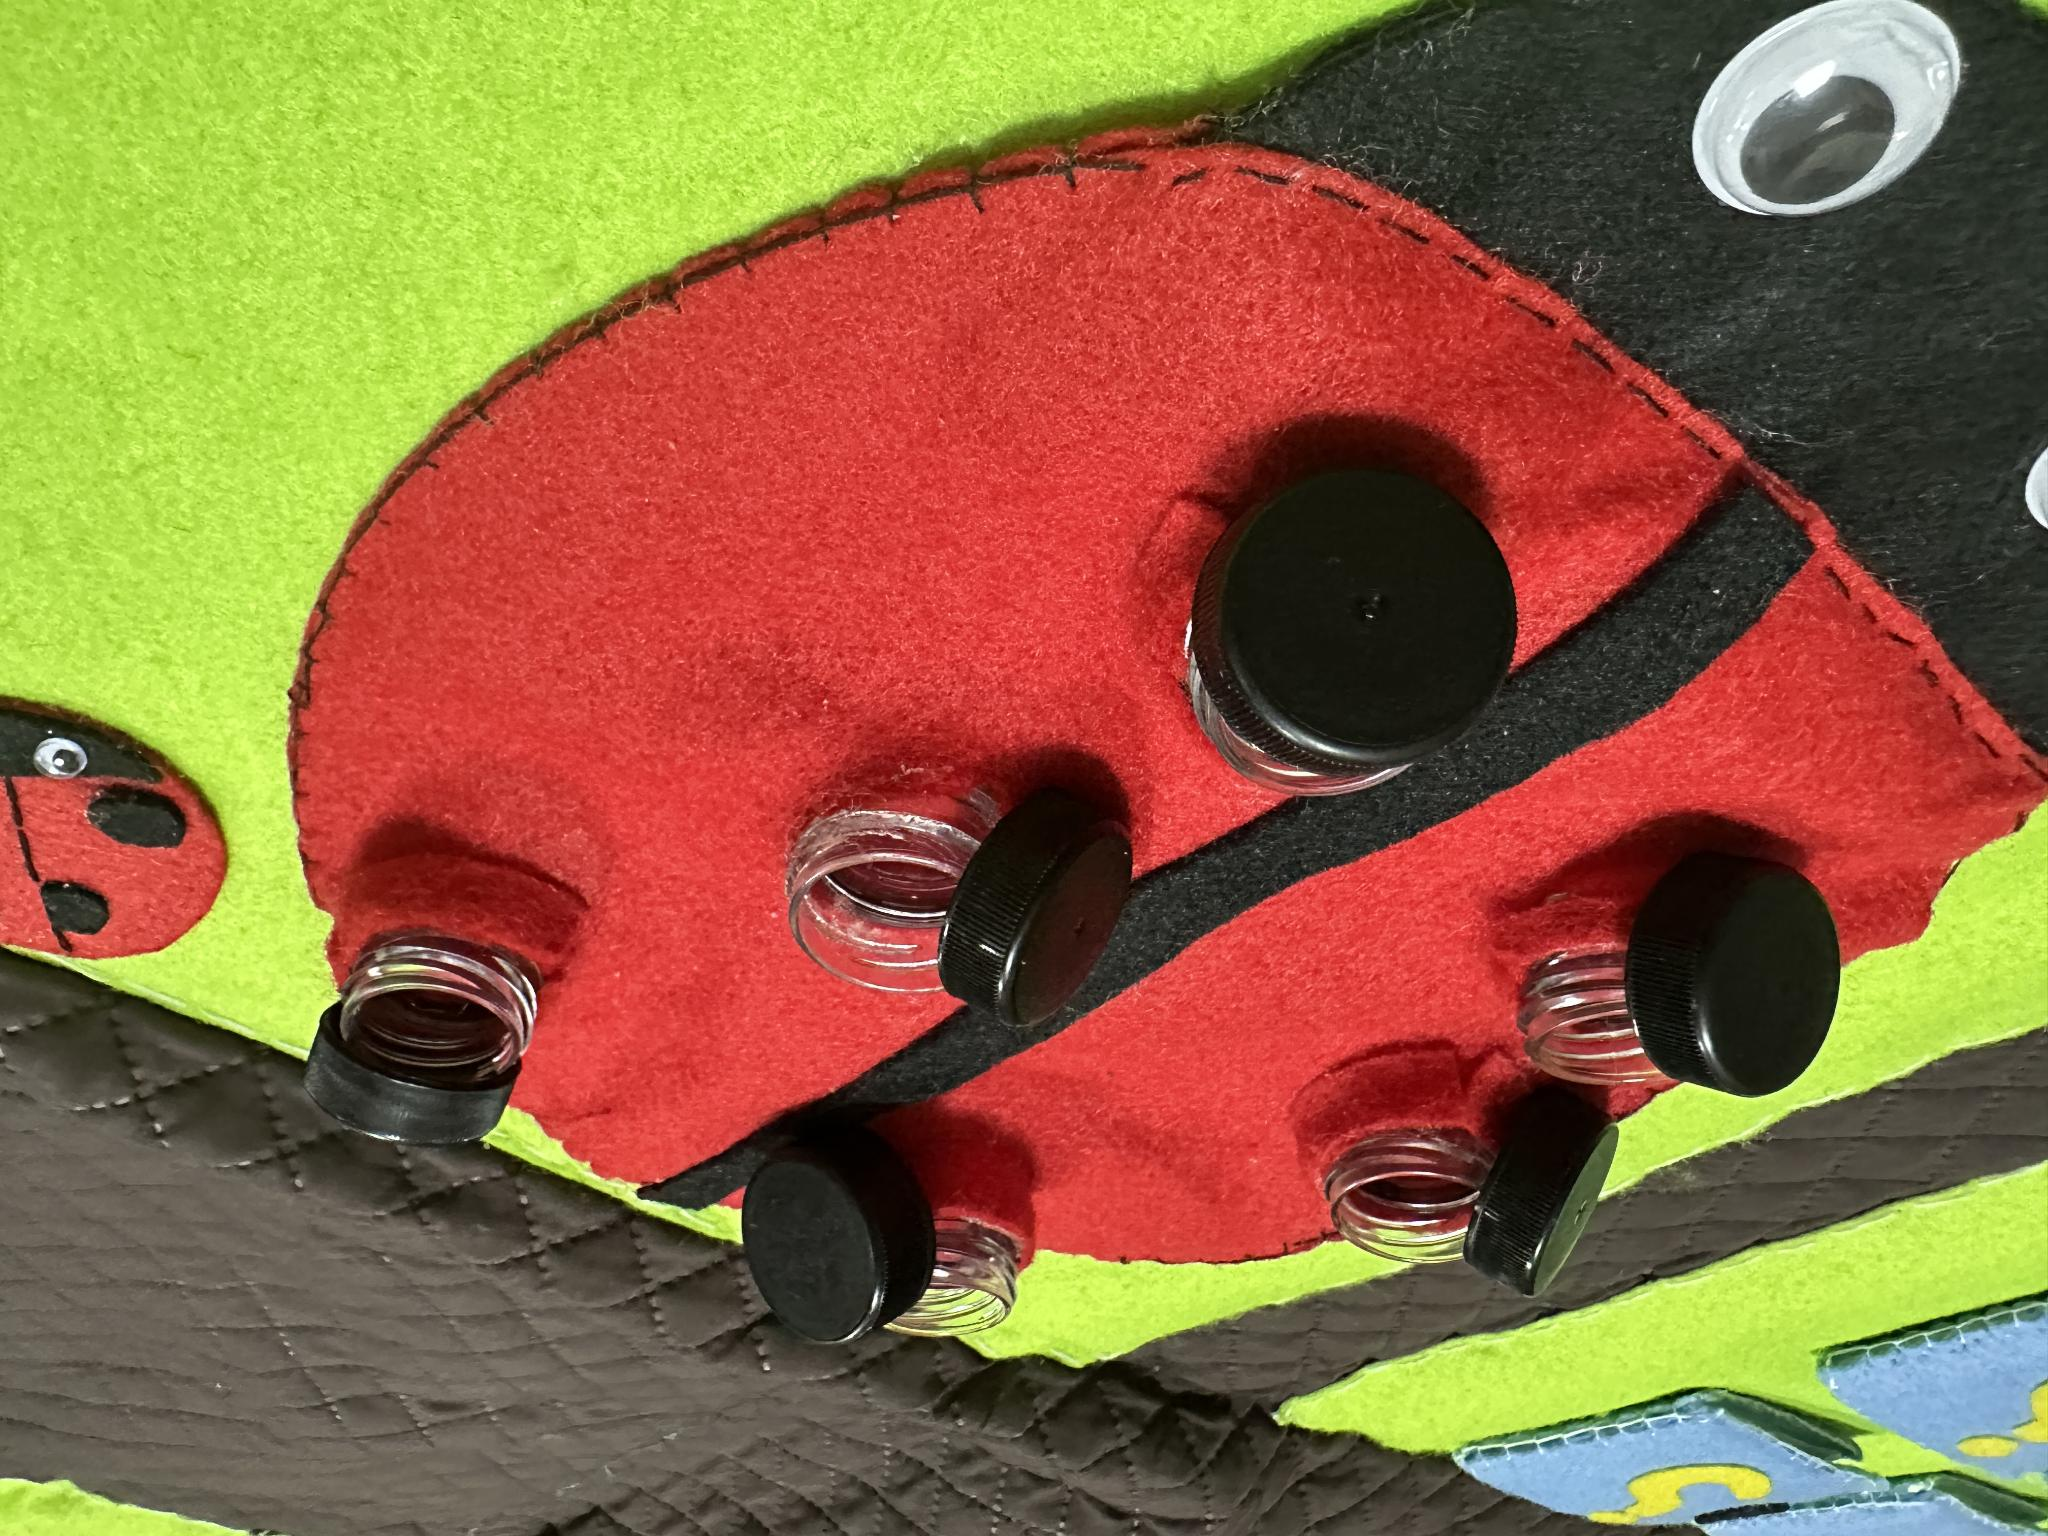cap_ng: (1166, 410, 1534, 815), (755, 760, 1153, 1037), (1492, 829, 1864, 1121), (285, 818, 593, 1170), (1284, 1050, 1634, 1304), (729, 1107, 1069, 1360)
